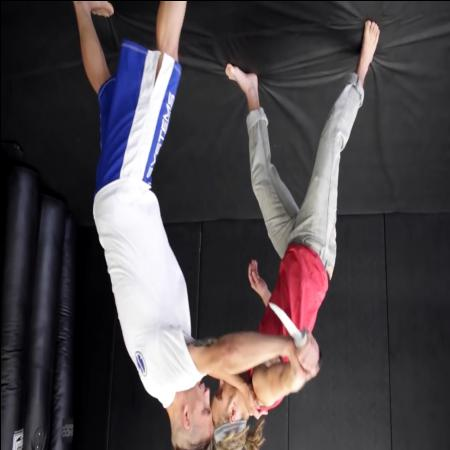long weapon: (265, 294, 324, 364)
